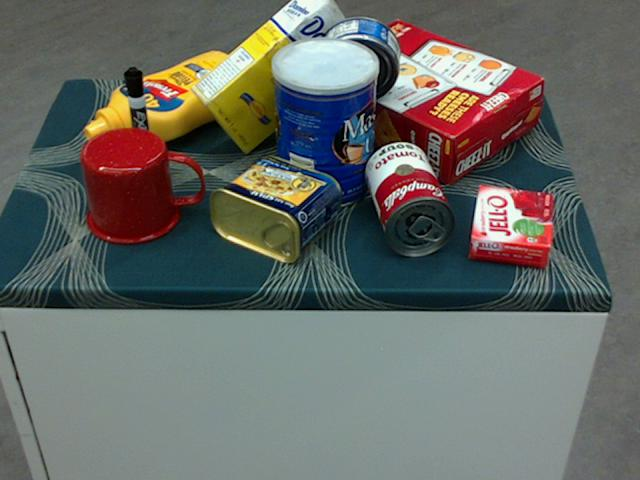cracker_box: (303, 18, 541, 185)
gelatin_box: (469, 185, 551, 265)
large_marker: (121, 67, 155, 175)
master_chef_can: (270, 38, 377, 210)
mug: (80, 126, 203, 244)
mustard_bottle: (82, 50, 253, 145)
potted_meat_can: (207, 155, 340, 262)
sugar_box: (187, 0, 364, 155)
tomato_soup_can: (365, 140, 454, 255)
tuna_fish_can: (317, 15, 400, 100)
